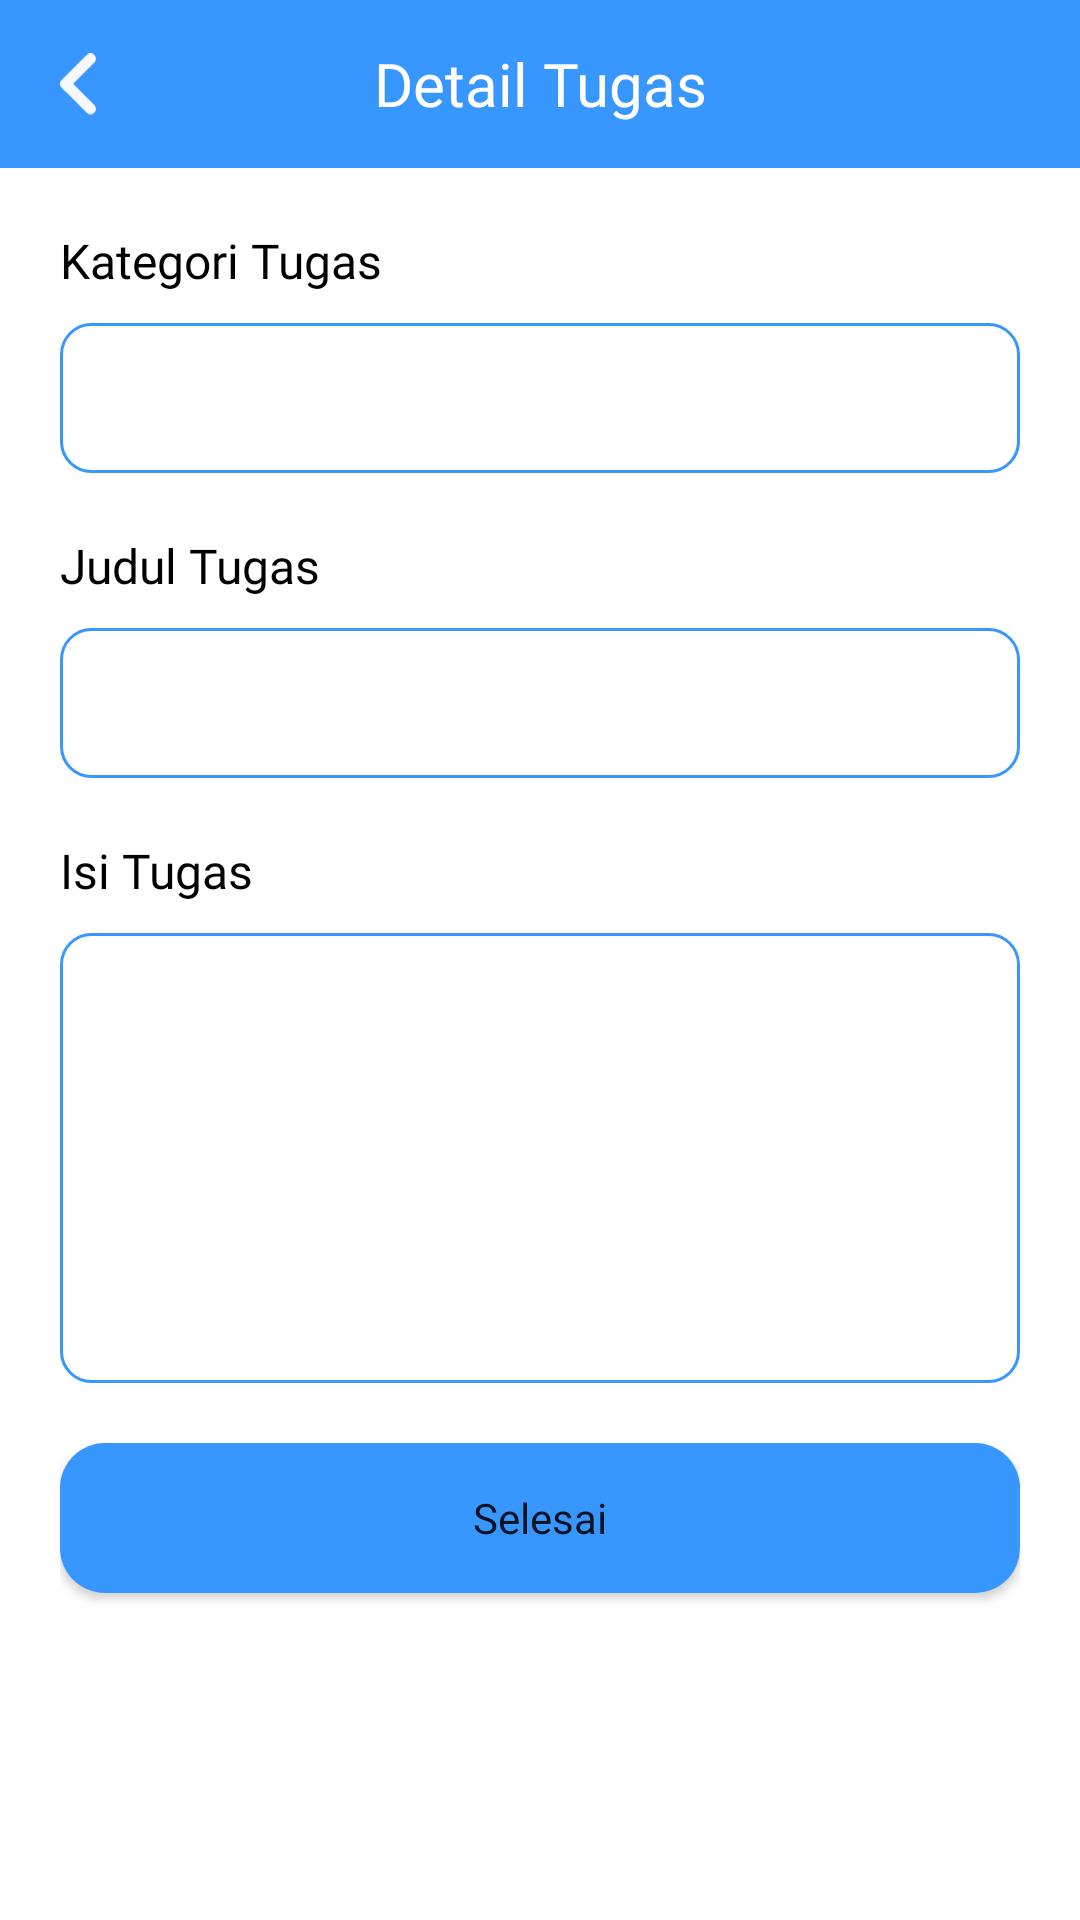

Screen size 1080*1920. Icon name, then its box in pixels as (x1, y1, x2, y2):
back: (60, 53, 96, 115)
